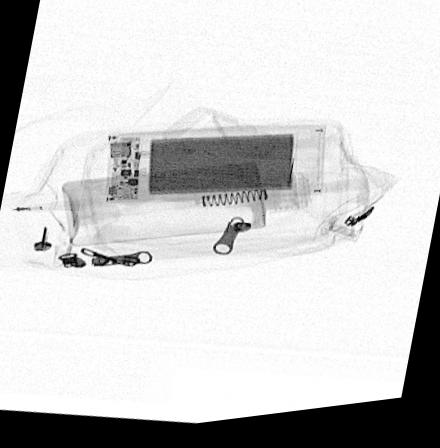Powerbank: (104, 133, 325, 205)
